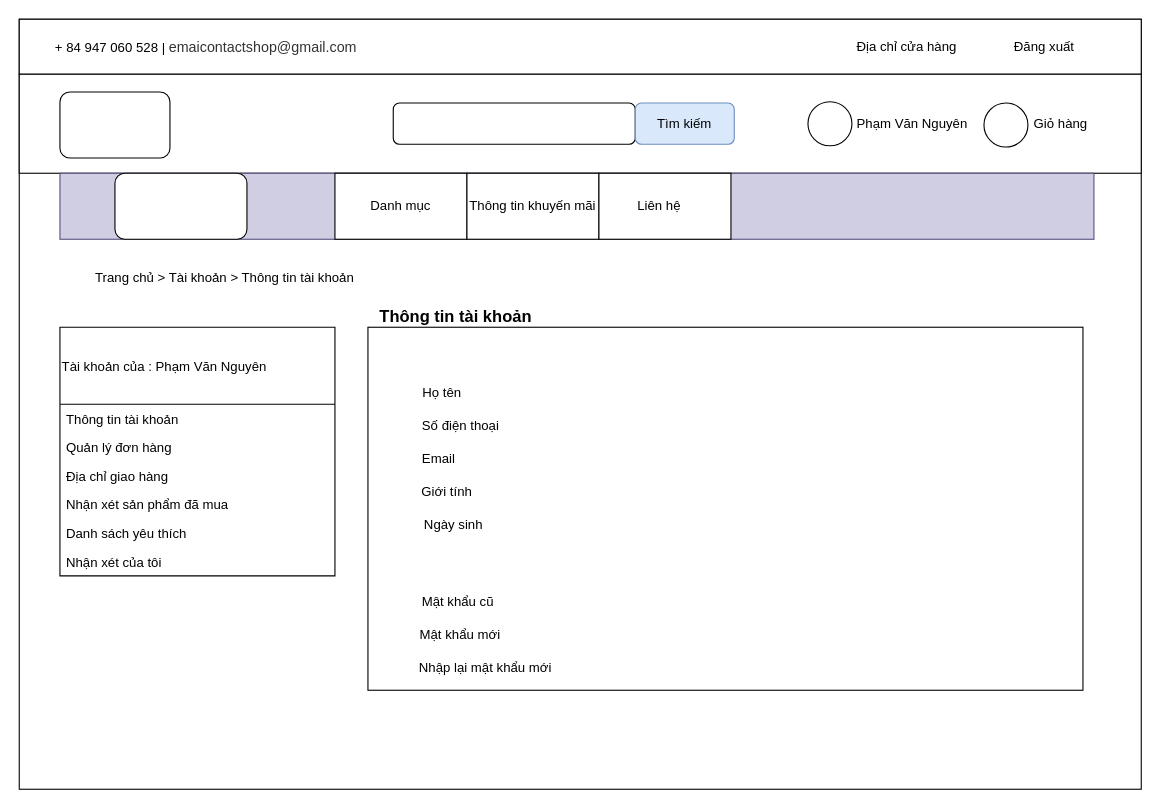
This 1161x809 diagram has some shape labels left out. Here are the shapes that lost their labels. From the top down, the centre of each, then its label:
(x=114, y=124): Logo shop
(x=180, y=205): Trang chủ
